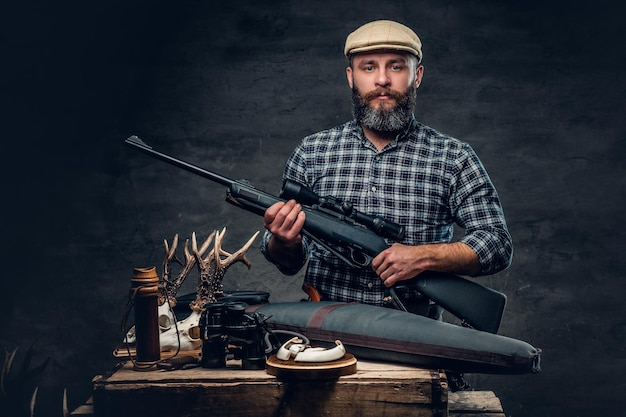gun: (125, 135, 507, 335)
